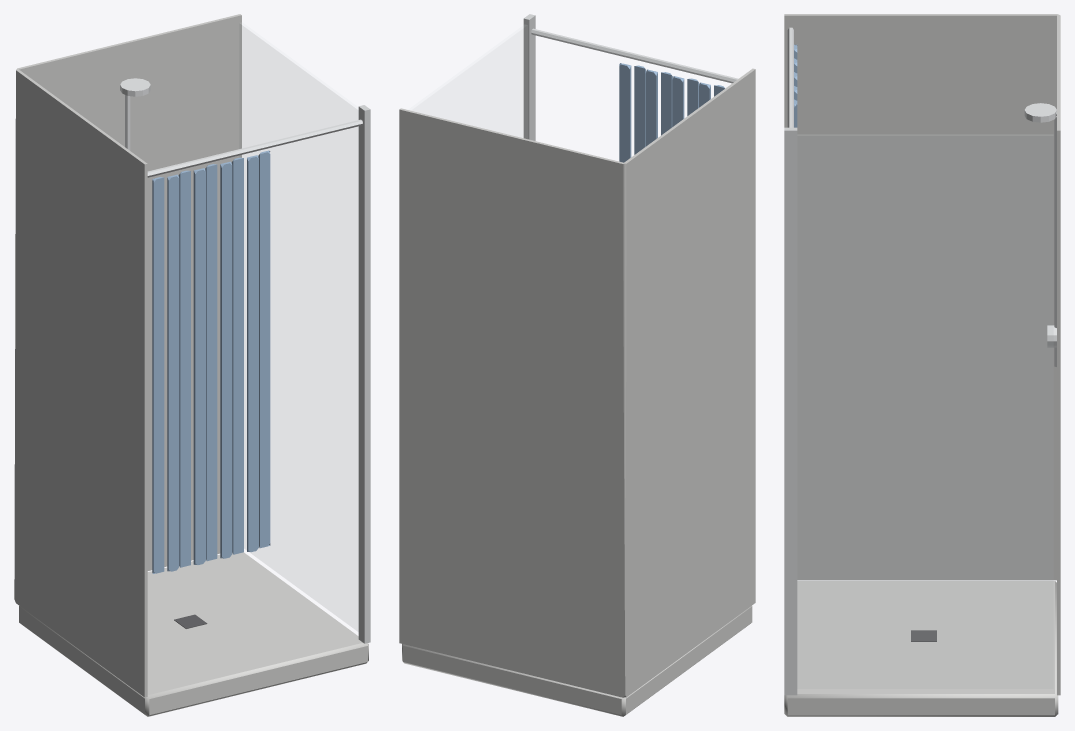
File: shower.glb
3 views of the same model, side by side, from view 1: azimuth 30°, elevation 25°; view 2: azimuth 150°, elevation 25°; view 3: azimuth 270°, elevation 25° (orthographic). The views are drawn at different scales.
Visible parts, largest first — view 1: shower_porcelain, shower_glass, shower_cloth_b, shower_alu, shower_chrome; view 2: shower_porcelain, shower_glass, shower_cloth_b, shower_alu, shower_chrome; view 3: shower_porcelain, shower_glass, shower_alu, shower_chrome.
Boxes of the visible parts, <box> form: shower_porcelain: <box>14,14,368,716</box>; shower_glass: <box>240,23,357,630</box>; shower_cloth_b: <box>152,150,270,573</box>; shower_alu: <box>358,105,370,643</box>; shower_chrome: <box>120,78,362,177</box>; shower_porcelain: <box>399,68,755,716</box>; shower_glass: <box>409,25,527,138</box>; shower_cloth_b: <box>619,63,724,162</box>; shower_alu: <box>523,14,535,140</box>; shower_chrome: <box>531,28,738,83</box>; shower_porcelain: <box>784,14,1060,716</box>; shower_glass: <box>798,135,1052,688</box>; shower_alu: <box>784,127,797,695</box>; shower_chrome: <box>787,27,1056,366</box>.
Size of the model in its own units: 0.851 by 2 by 0.851.
